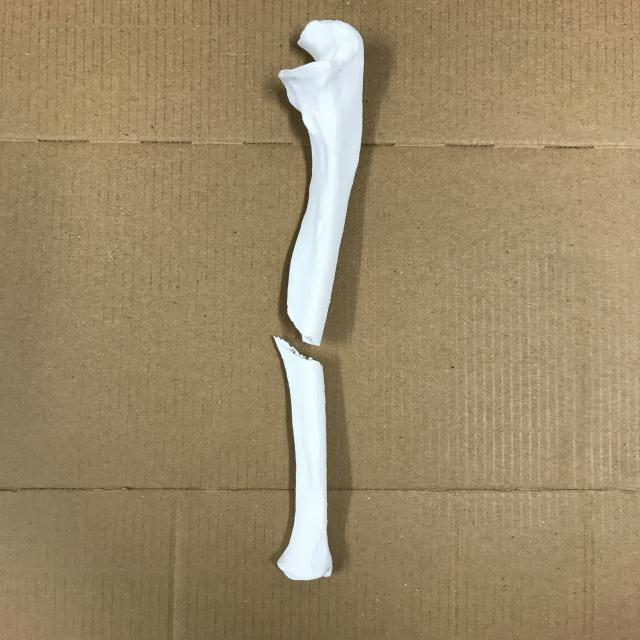bone: (277, 16, 375, 346), (269, 333, 343, 588)
